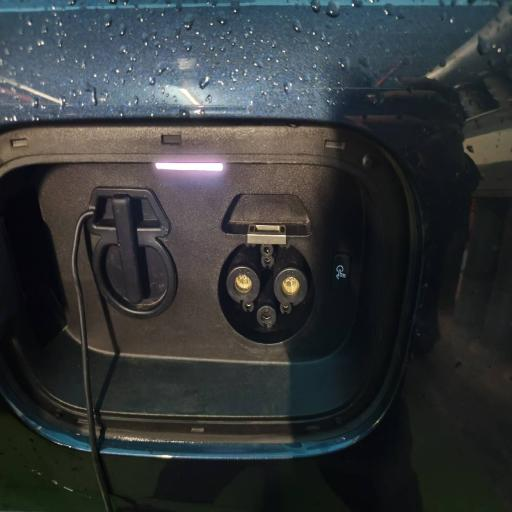DC_charging_port: (215, 240, 317, 348)
DC_hole: (225, 264, 261, 306), (273, 266, 308, 308)
PE: (256, 306, 276, 330)
